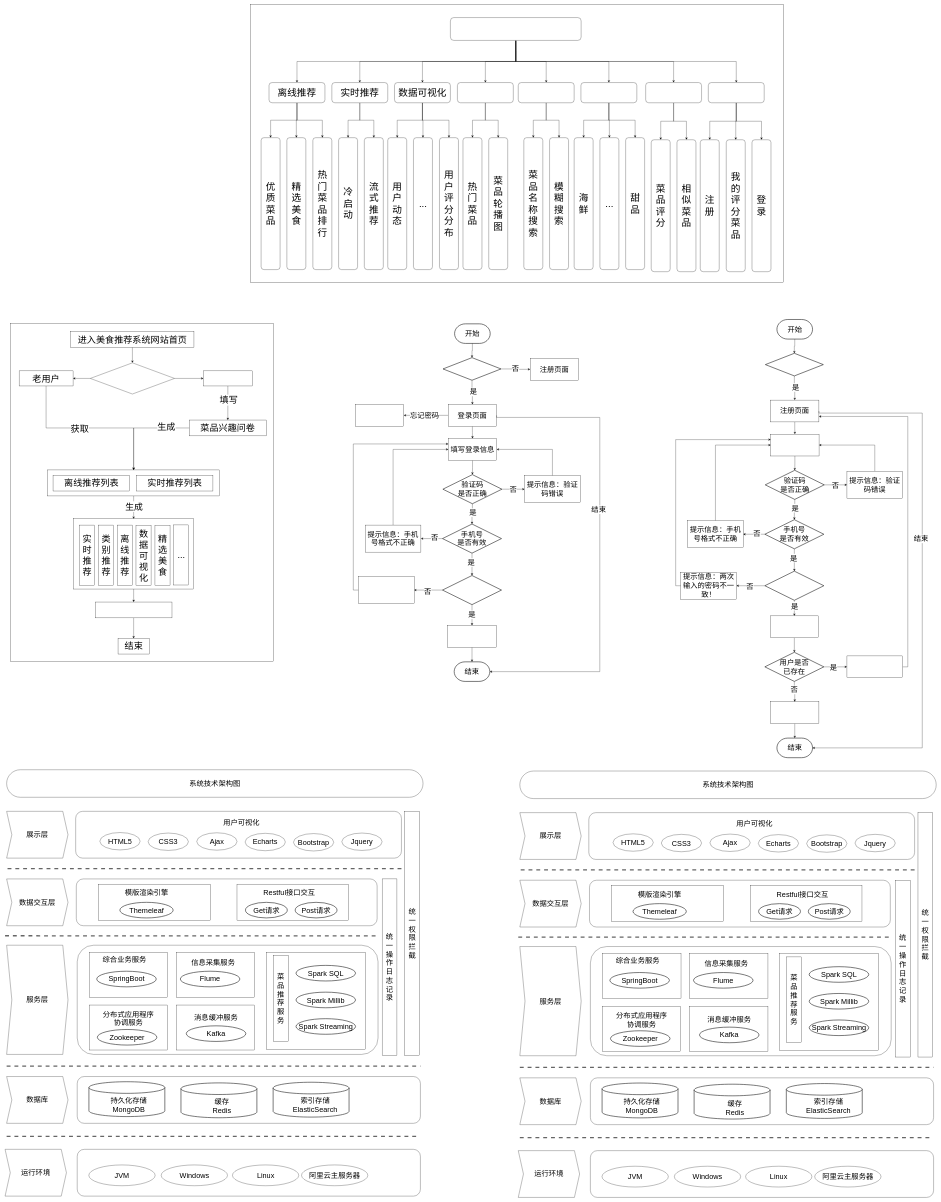
Image size: 941x1202. Some labels were removed from this diagram. Each missing label, with the centre of its shape:
"判断用户类型" belongs at [132,378].
"基于Spark的美食推荐系统" belongs at [515,28].
"填写注册信息" belongs at [794,445].
"密码是否一致" belongs at [794,585].
"忘记密码页面" belongs at [379,415].
"推荐结果展示" belongs at [133,610].
"提示信息：用户名已经被注册" belongs at [875,667].
"提示信息：登录失败！用户名或密码错误" belongs at [386,590].
"新用户" belongs at [227,378].
"是否已注册" belongs at [472,368].
"是否进行注册" belongs at [794,364].
"注册信息 传入后端" belongs at [794,627].
"注册成功" belongs at [794,712].
"用户" belongs at [736,92].
"登录信息 是否正确" belongs at [472,590].
"登录成功" belongs at [472,636].
"菜品搜索框" belongs at [546,92].
"菜品类别" belongs at [609,92].
"菜品详情" belongs at [673,92].
"首页" belongs at [485,92].
